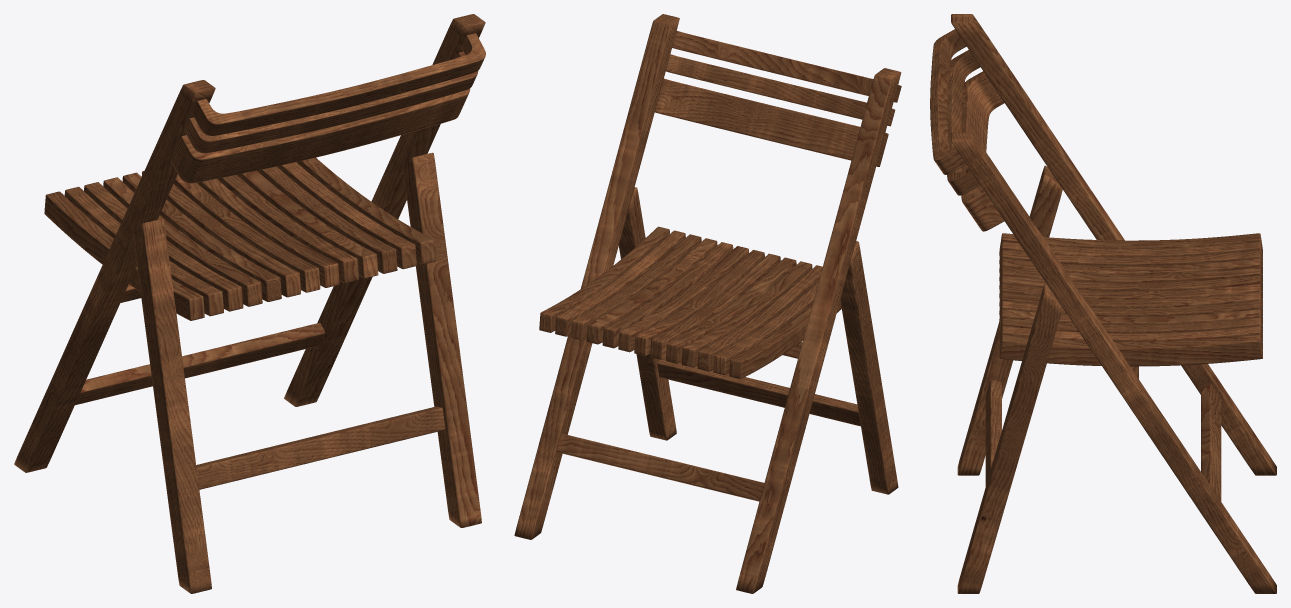
The model's file is Chair37.fbx.
The picture shows the model from 3 angles, left to right: view 1: azimuth 30°, elevation 25°; view 2: azimuth 150°, elevation 25°; view 3: azimuth 270°, elevation 25°; orthographic projection. The views are drawn at different scales.
Visible parts, largest first — view 1: Chair37; view 2: Chair37; view 3: Chair37.
Part boxes in pixels (x1,y1,x2,y2): Chair37: (14, 14, 485, 593); Chair37: (514, 14, 901, 593); Chair37: (930, 14, 1276, 593).
Bounding box in the file's own units: 44.17 × 73.03 × 50.64.
